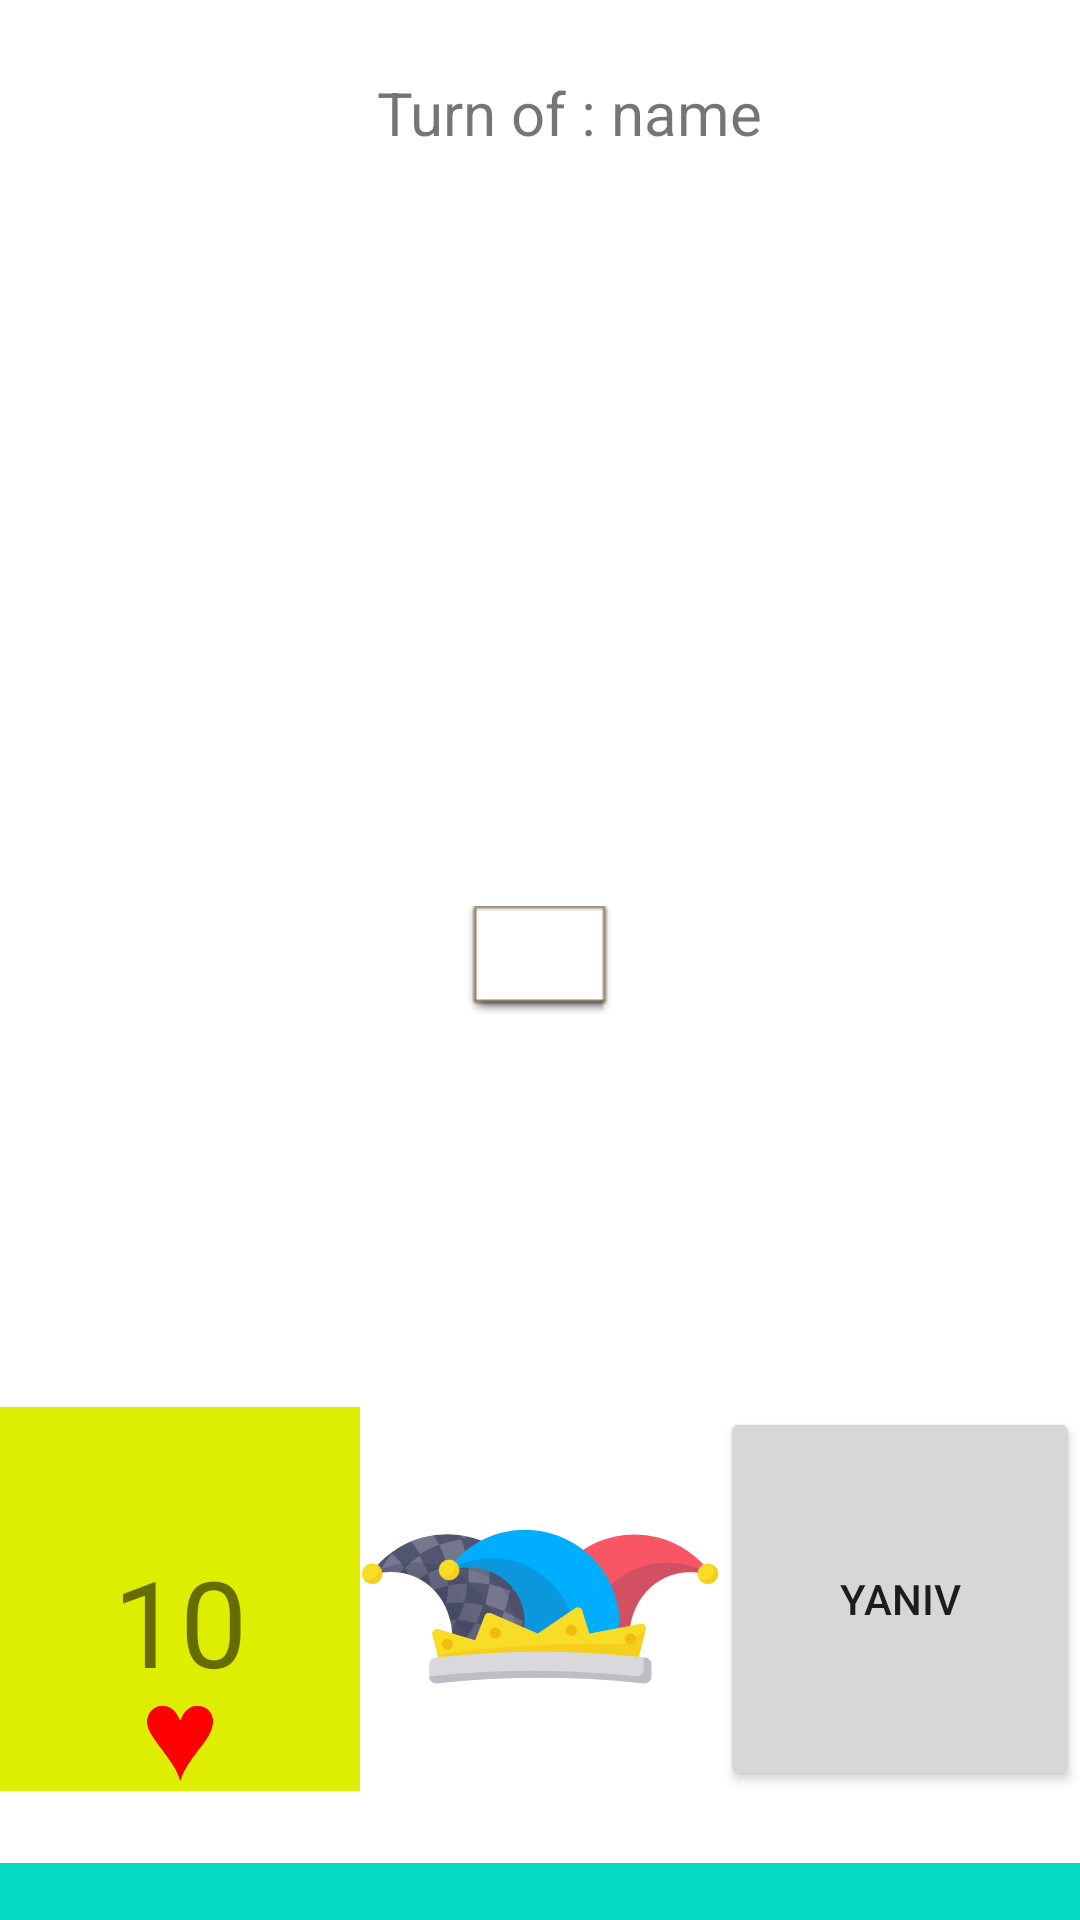

Icons on this 1080px x 1920px Android screen, each with the point to tap as (x=x, y=y):
suit joker: (x=540, y=1606)
